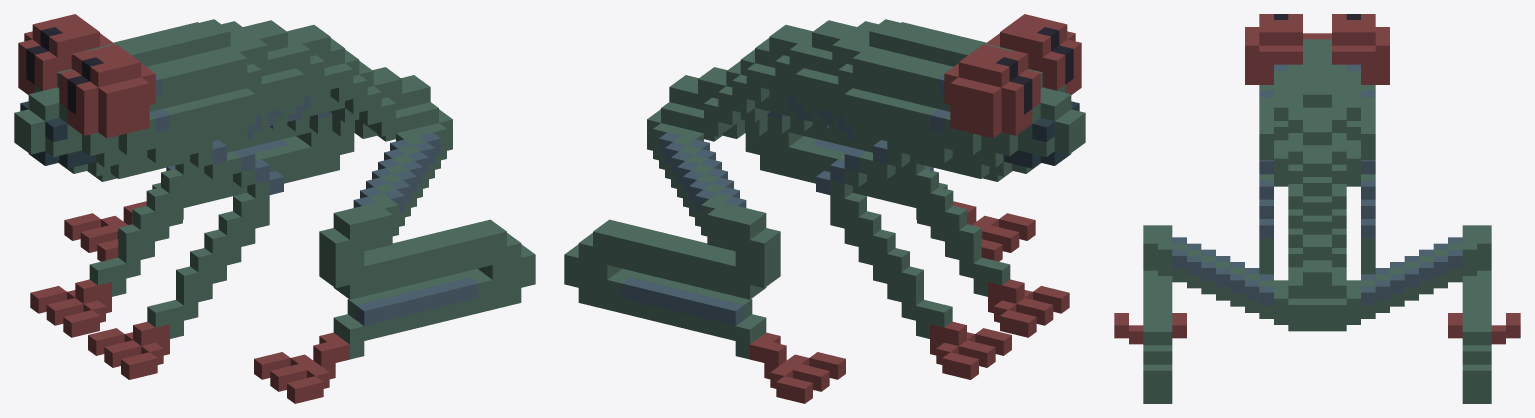
Rendered from frog.obj.
The picture shows the model from 3 angles, left to right: view 1: azimuth 30°, elevation 25°; view 2: azimuth 150°, elevation 25°; view 3: azimuth 270°, elevation 25°; orthographic projection. The views are drawn at different scales.
Size of the model in its own units: 2.9 by 2 by 2.8.
1 material, 1 textured.
